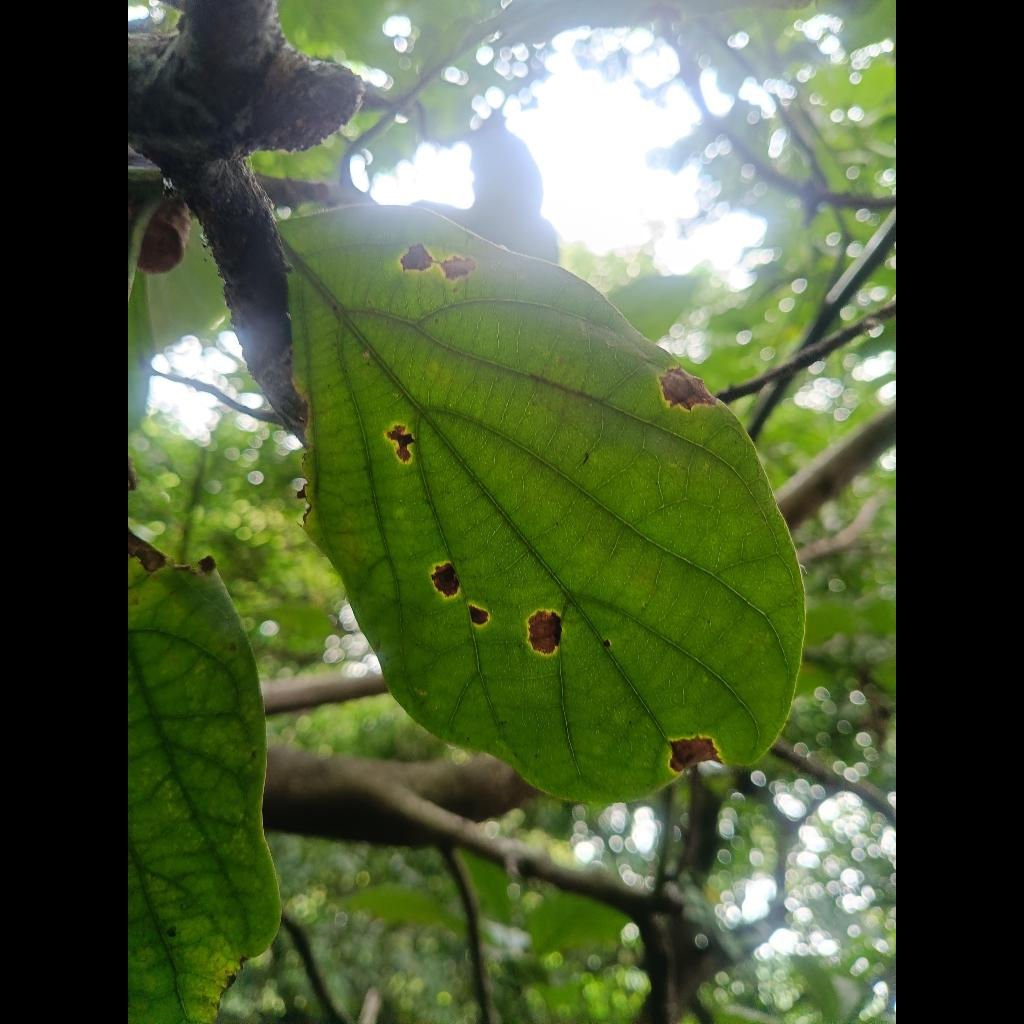Anthracnose: (282, 206, 804, 800)
